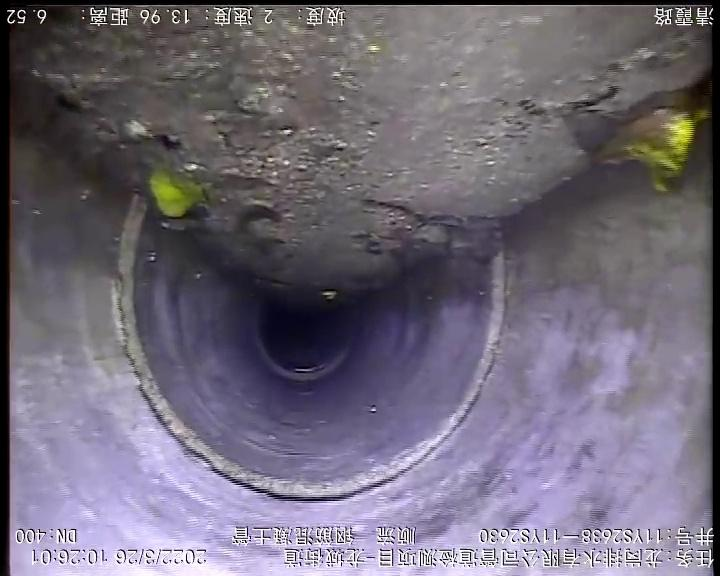CJ: (23, 7, 712, 302)
CKTJ: (112, 197, 507, 498)
